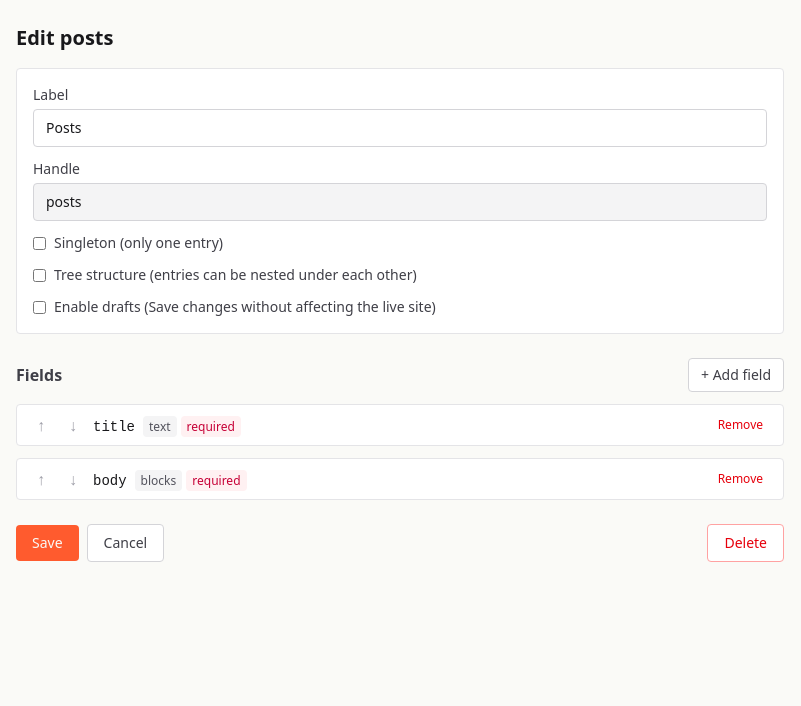
BlueprintEditor › switching kind to select reveals the options editor
Note: Expand the first field card by clicking its header button
Click the button with test id "field-expand-0" at [167, 425], box x1=93 y1=413 x2=241 y2=437
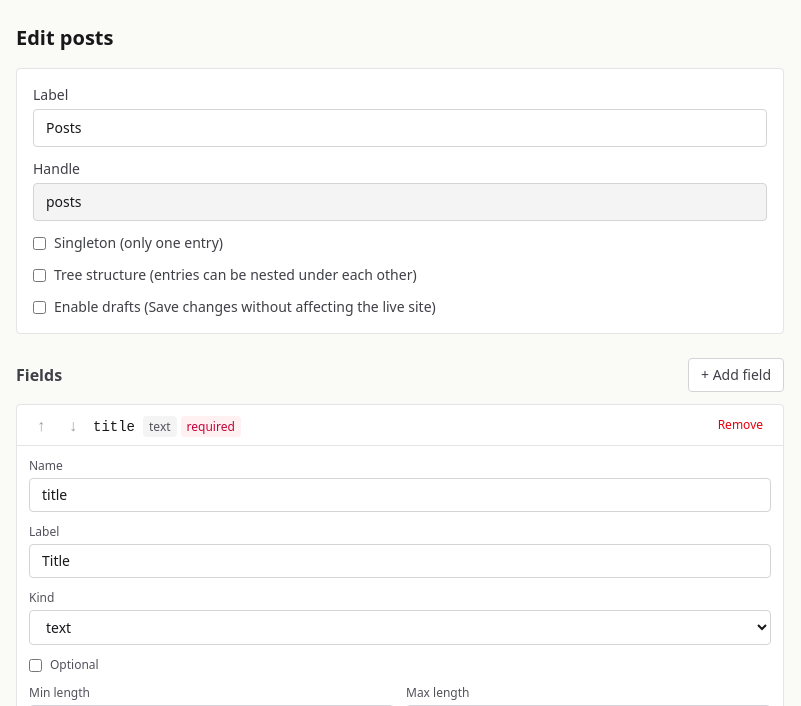
Note: Change kind to select
Select "select" in the dropdown with test id "field-kind-0" at [400, 628], box x1=29 y1=610 x2=771 y2=645
(page scrolled)
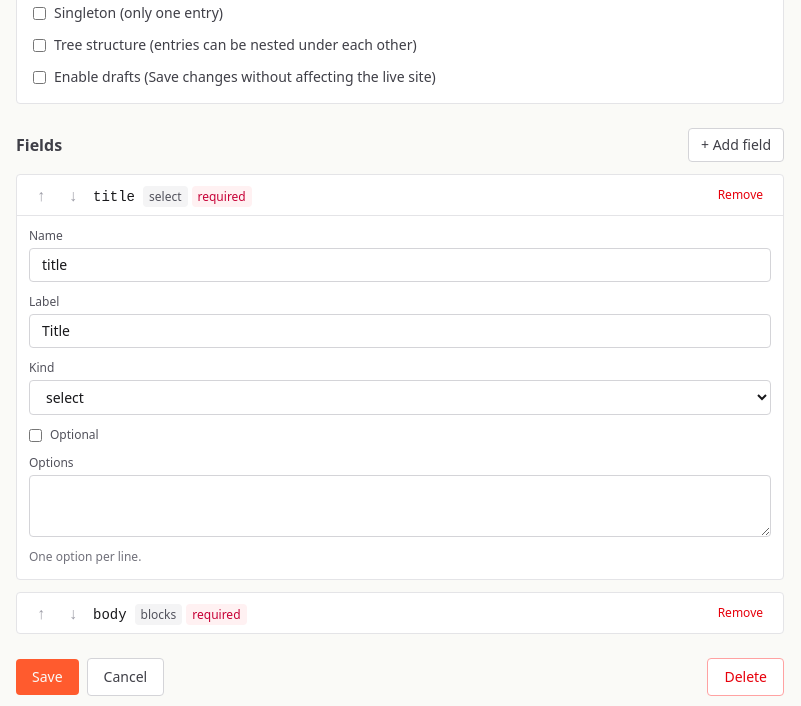
Result: the text box with test id "field-options-0" is shown at x1=29 y1=475 x2=771 y2=537
